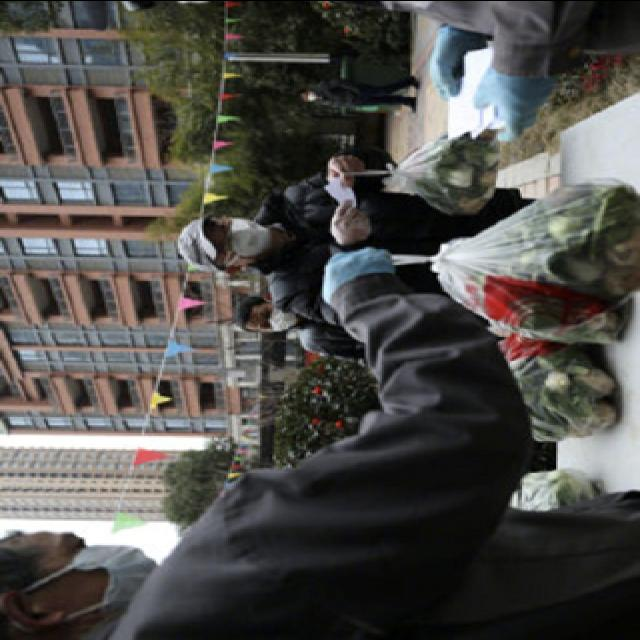with_mask: (48, 531, 154, 608), (210, 216, 274, 261), (258, 302, 298, 334), (300, 91, 318, 104)
